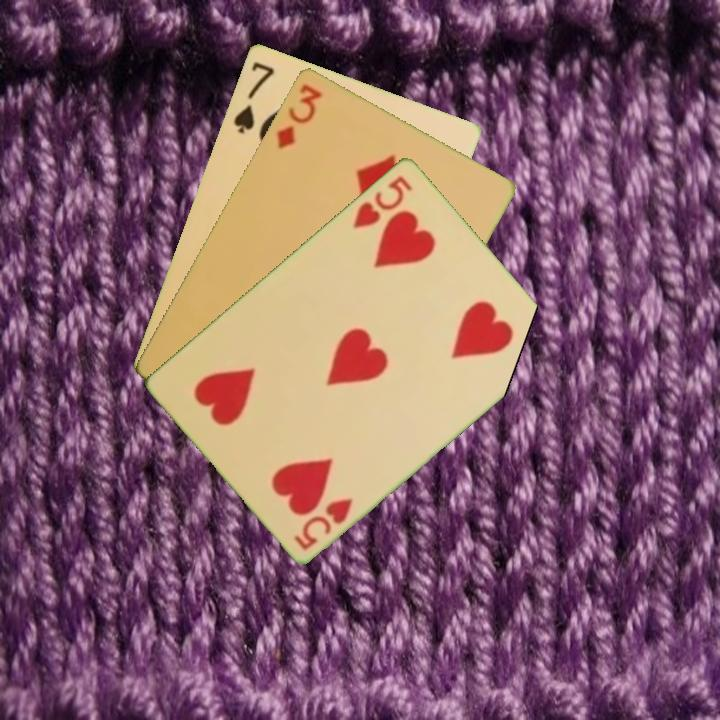3d: (273, 80, 324, 152)
5h: (349, 171, 416, 231), (290, 493, 357, 553)
7s: (229, 57, 277, 136)
